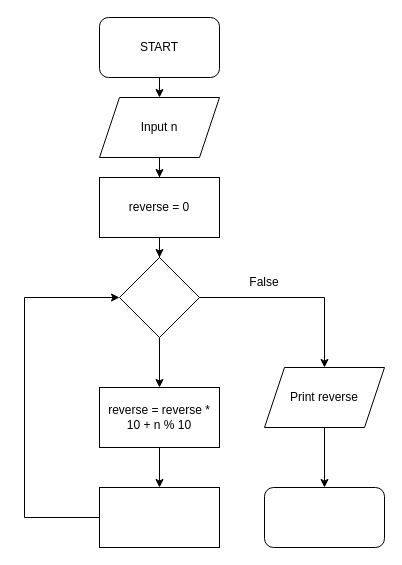
Some shapes in this 402 by 565 pixel diagram are drawn without their labels. The centre of each missing label's shape, as x and y in pixels:
END: point (324, 517)
If n!=0: point (159, 297)
n = n/10: point (159, 517)
